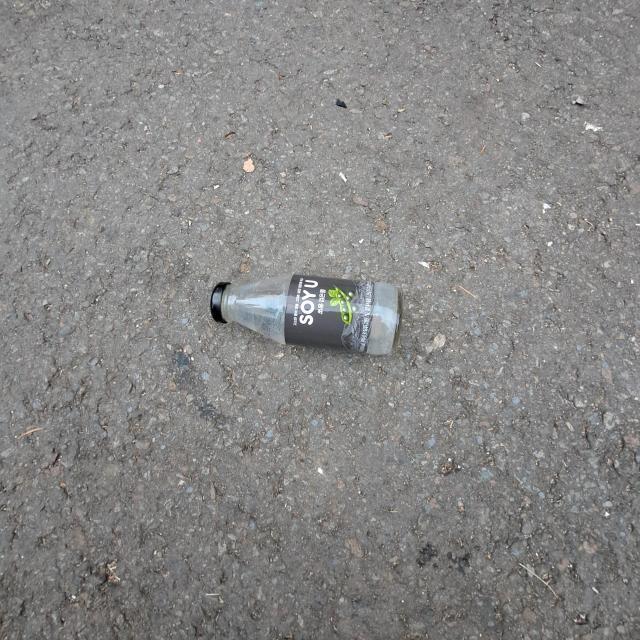glass: (210, 274, 402, 355)
